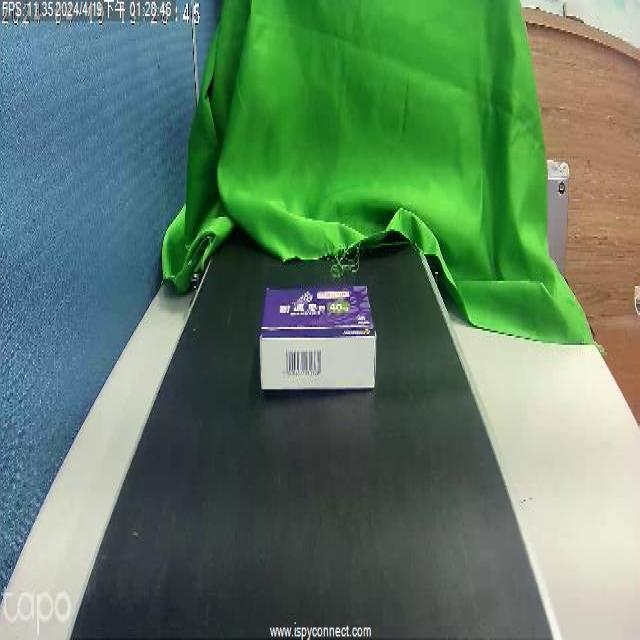box: (264, 276, 365, 398)
